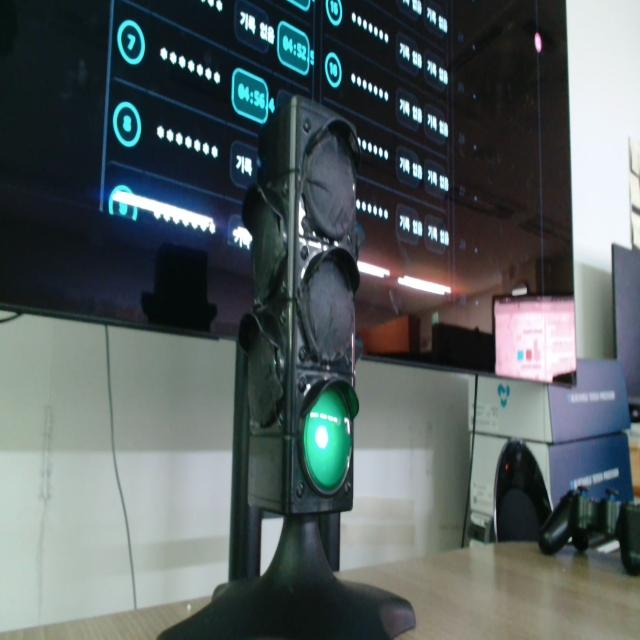green_light: (304, 389, 351, 493)
